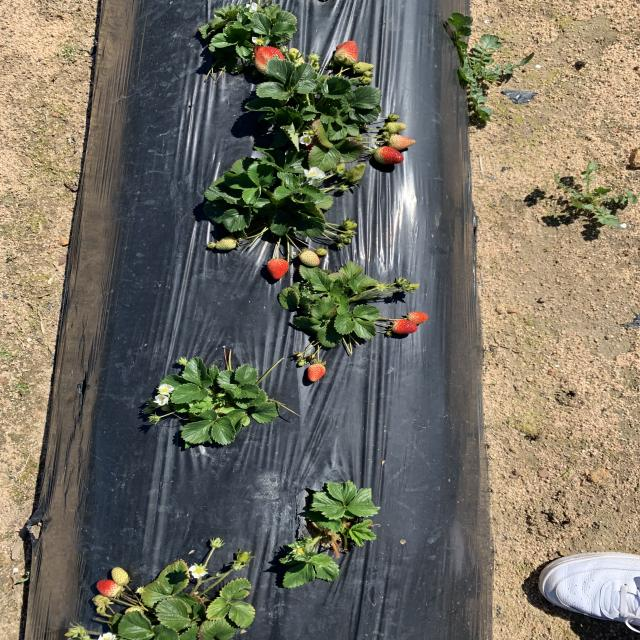unripe: (253, 45, 288, 74), (334, 41, 358, 64), (266, 257, 289, 280), (374, 147, 404, 164), (390, 318, 420, 334), (306, 364, 326, 382), (408, 312, 428, 323)
